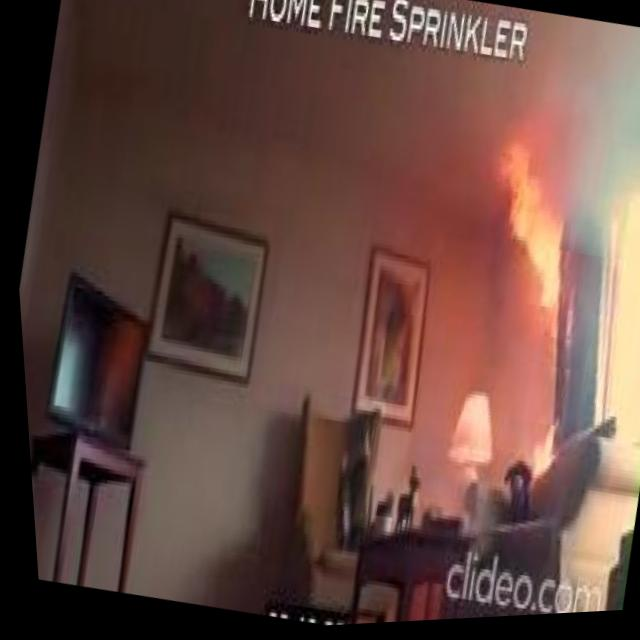fire: (458, 136, 593, 351), (505, 417, 563, 488)
